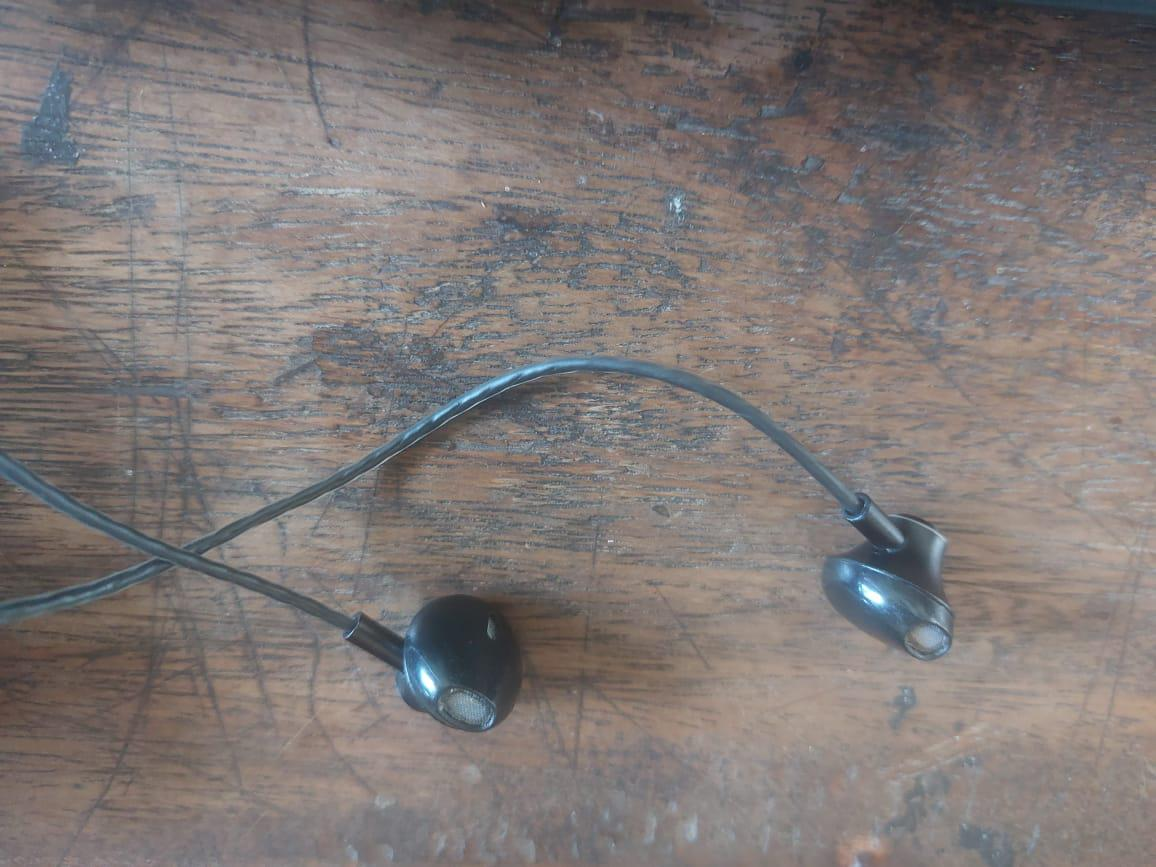Earphone: (803, 483, 977, 688), (346, 583, 527, 756)
